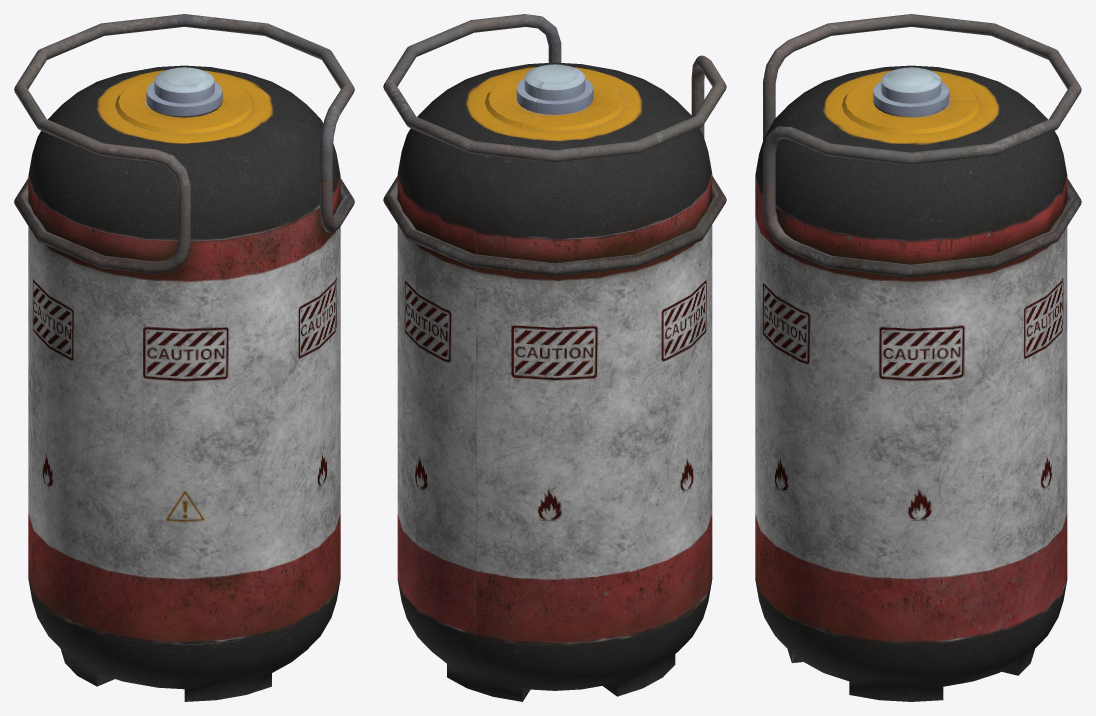
Rendered from FuelContainer.fbx.
The picture shows the model from 3 angles, left to right: view 1: azimuth 30°, elevation 25°; view 2: azimuth 150°, elevation 25°; view 3: azimuth 270°, elevation 25°; orthographic projection.
Parts seen in each view (by area): view 1: Gas Tank; view 2: Gas Tank; view 3: Gas Tank.
Part boxes in pixels (x1,y1,x2,y2): Gas Tank: (14, 14, 354, 701); Gas Tank: (383, 14, 726, 701); Gas Tank: (755, 14, 1081, 701).
Bounding box in the file's own units: 131 × 243 × 126.
Materials: 1 (1 with a texture image).
